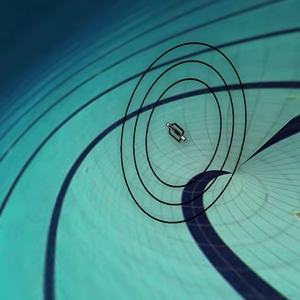circle: (108, 34, 257, 233)
submarine: (161, 116, 197, 158)
